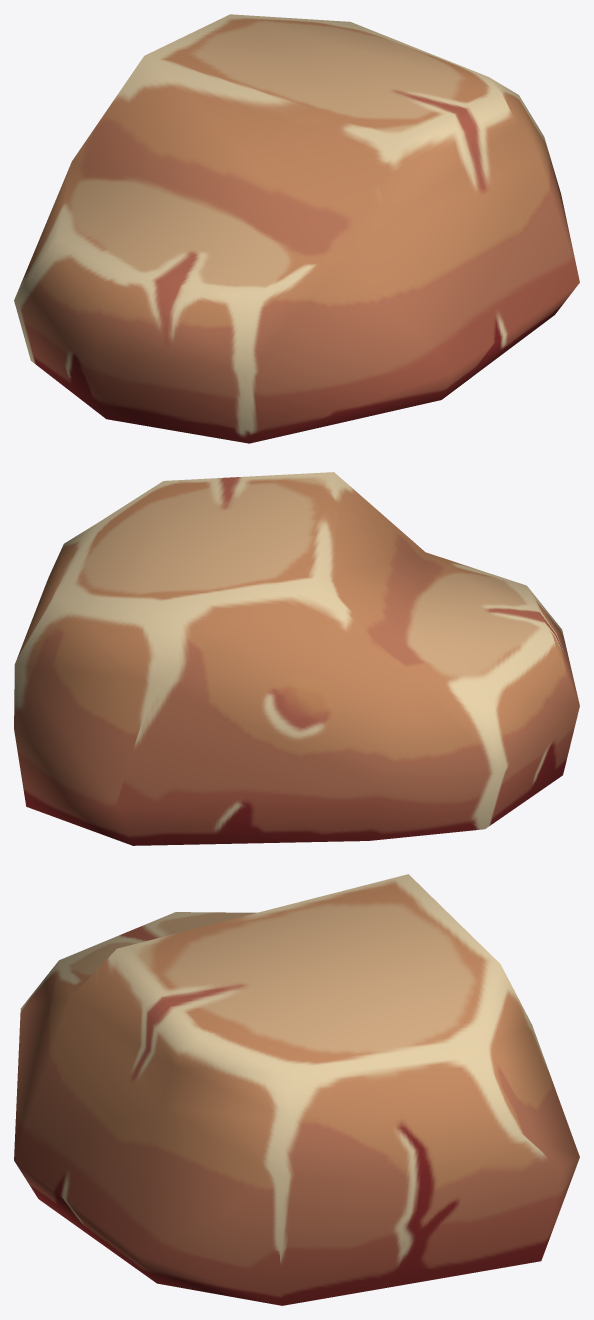
The model's file is stone_02.fbx.
3 views of the same model, one above another, from view 1: azimuth 30°, elevation 25°; view 2: azimuth 150°, elevation 25°; view 3: azimuth 270°, elevation 25° (orthographic). The views are drawn at different scales.
Parts seen in each view (by area): view 1: pCube8; view 2: pCube8; view 3: pCube8.
Boxes of the visible parts, x1,y1,x2,y2 form: pCube8: (14, 14, 579, 443); pCube8: (14, 472, 579, 845); pCube8: (14, 874, 579, 1305).
Size of the model in its own units: 206 by 97.02 by 183.
